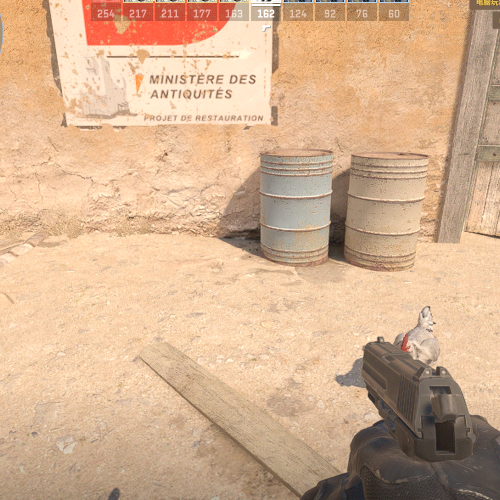chicken: (395, 304, 438, 362)
